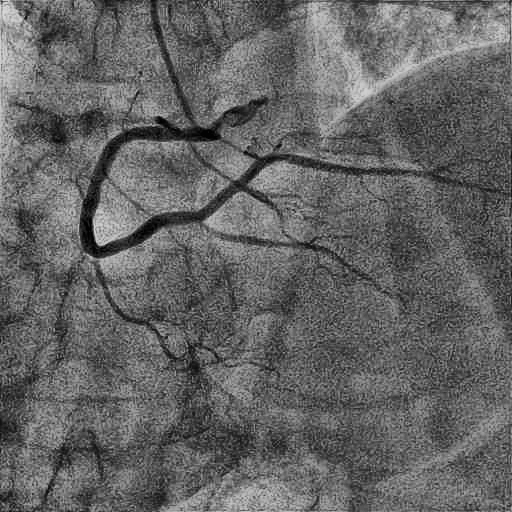pborca: (201, 154, 492, 217)
pda: (200, 221, 372, 281)
rca: (79, 126, 204, 258)
